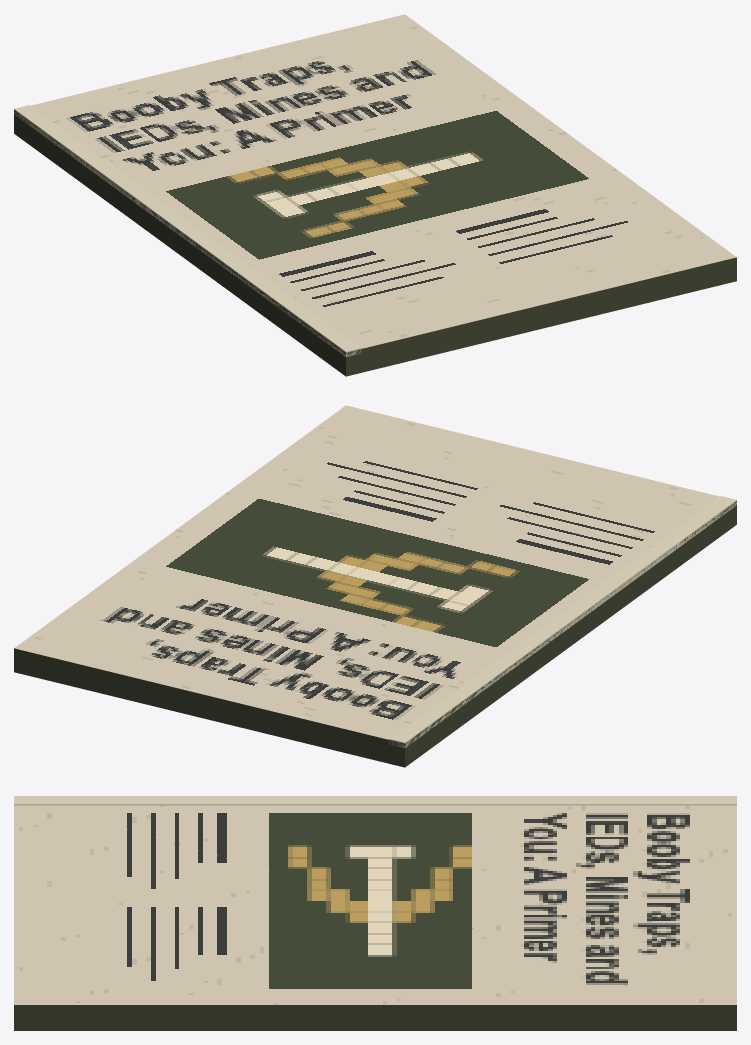
Rendered from manual_traps_mil_basic.glb.
3 views of the same model, one above another, from view 1: azimuth 30°, elevation 25°; view 2: azimuth 150°, elevation 25°; view 3: azimuth 270°, elevation 25° (orthographic). The views are drawn at different scales.
Visible parts, largest first — view 1: block_printed paper, block_folded edge; view 2: block_printed paper, block_folded edge; view 3: block_printed paper, block_folded edge.
Boxes of the visible parts, bbox=[...] form: block_printed paper: bbox=[14, 14, 736, 376]; block_folded edge: bbox=[14, 105, 361, 357]; block_printed paper: bbox=[14, 405, 736, 767]; block_folded edge: bbox=[389, 496, 736, 747]; block_printed paper: bbox=[14, 805, 736, 1030]; block_folded edge: bbox=[14, 796, 736, 805].
Size of the model in its own units: 0.1428 by 0.00867 by 0.21.
1 material, 1 textured.
